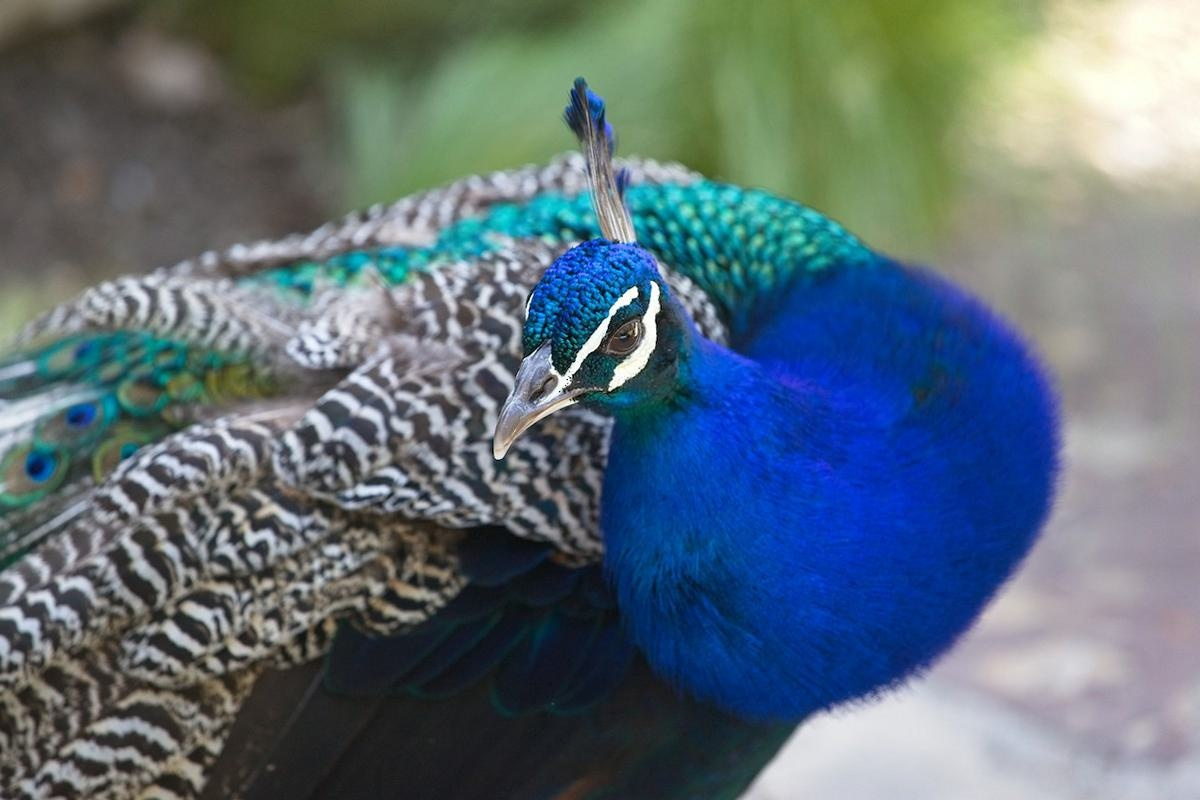peacock: (1, 107, 1063, 800)
